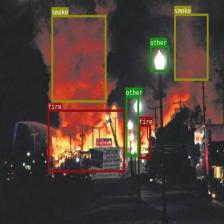fire: (47, 109, 125, 172), (139, 124, 150, 158)
smoke: (51, 15, 106, 102), (174, 13, 208, 80)
